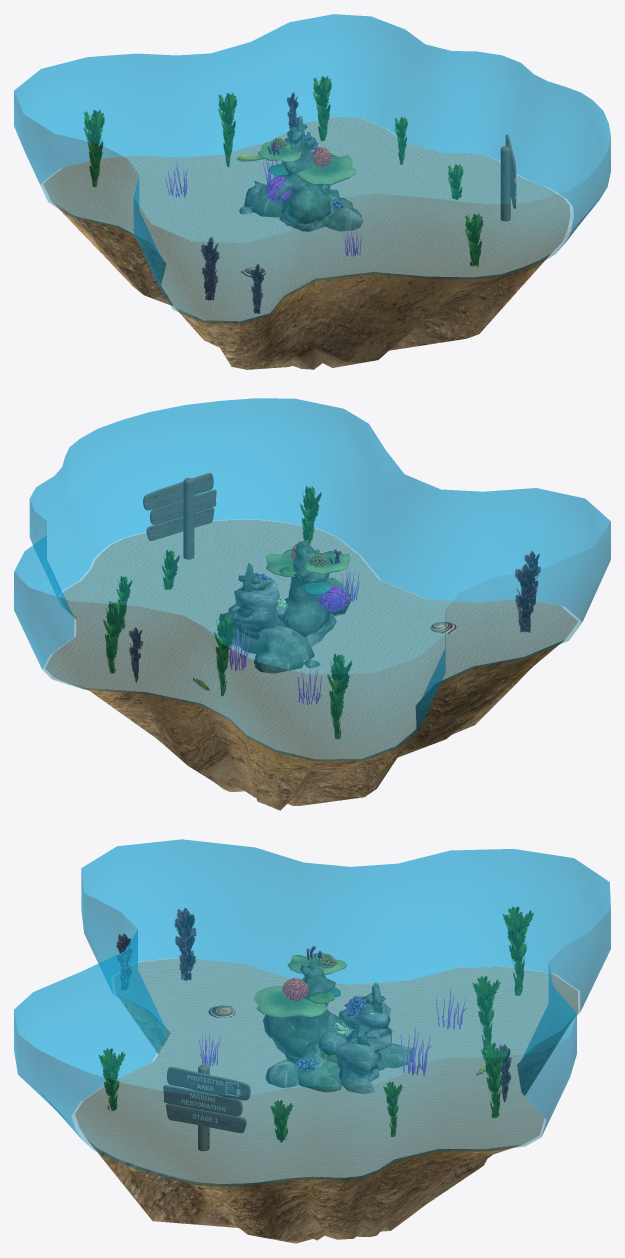
Rendered from mar-stg1.glb.
3 views of the same model, one above another, from view 1: azimuth 30°, elevation 25°; view 2: azimuth 150°, elevation 25°; view 3: azimuth 270°, elevation 25° (orthographic). The views are drawn at different scales.
Parts seen in each view (by area): view 1: ISOLOTTI_GRP_ISOLOTTI_004_GRP_isola_04_acqua_geo, ISOLOTTI_GRP_isola_04_terra_geo_ISOLOTTI_004_GRP, rock_geo, polySurface27.001, SeaWeed04_, SeaWeed04_.005, pole.002, SeaWeed04_.002, SeaWeed05_.001, SeaWeed04_.004; view 2: ISOLOTTI_GRP_ISOLOTTI_004_GRP_isola_04_acqua_geo, ISOLOTTI_GRP_isola_04_terra_geo_ISOLOTTI_004_GRP, rock_geo, SeaWeed04_, polySurface27.001, top_board.002, SeaWeed05_.001, pole.002, middle_board.002, SeaWeed04_.005, bottom_board.002, SeaWeed04_.002 (+2 smaller); view 3: ISOLOTTI_GRP_ISOLOTTI_004_GRP_isola_04_acqua_geo, ISOLOTTI_GRP_isola_04_terra_geo_ISOLOTTI_004_GRP, rock_geo, polySurface27.001, top_board.002, middle_board.002, SeaWeed04_, bottom_board.002, SeaWeed05_.001, SeaWeed04_.002, SeaWeed04_.005, SeaWeed04_.004 (+2 smaller).
Part boxes in pixels (x1,y1,x2,y2): ISOLOTTI_GRP_ISOLOTTI_004_GRP_isola_04_acqua_geo: [14, 14, 610, 323]; ISOLOTTI_GRP_isola_04_terra_geo_ISOLOTTI_004_GRP: [43, 117, 570, 369]; rock_geo: [239, 116, 362, 231]; polySurface27.001: [258, 141, 355, 185]; SeaWeed04_: [84, 110, 104, 186]; SeaWeed04_.005: [218, 93, 236, 166]; pole.002: [500, 146, 510, 221]; SeaWeed04_.002: [313, 76, 331, 141]; SeaWeed05_.001: [201, 237, 219, 300]; SeaWeed04_.004: [465, 214, 482, 266]; ISOLOTTI_GRP_ISOLOTTI_004_GRP_isola_04_acqua_geo: [14, 398, 610, 761]; ISOLOTTI_GRP_isola_04_terra_geo_ISOLOTTI_004_GRP: [45, 519, 578, 810]; rock_geo: [218, 539, 351, 673]; SeaWeed04_: [327, 654, 351, 739]; polySurface27.001: [266, 549, 350, 576]; top_board.002: [143, 473, 213, 510]; SeaWeed05_.001: [515, 564, 537, 632]; pole.002: [183, 478, 194, 559]; middle_board.002: [150, 489, 216, 524]; SeaWeed04_.005: [214, 613, 235, 696]; bottom_board.002: [146, 507, 214, 540]; SeaWeed04_.002: [103, 601, 125, 673]; ISOLOTTI_GRP_ISOLOTTI_004_GRP_isola_04_acqua_geo: [14, 839, 610, 1186]; ISOLOTTI_GRP_isola_04_terra_geo_ISOLOTTI_004_GRP: [75, 958, 578, 1243]; rock_geo: [263, 961, 415, 1094]; polySurface27.001: [254, 953, 346, 1018]; top_board.002: [167, 1067, 250, 1100]; middle_board.002: [163, 1085, 242, 1116]; SeaWeed04_: [502, 906, 533, 995]; bottom_board.002: [166, 1103, 246, 1133]; SeaWeed05_.001: [174, 908, 196, 980]; SeaWeed04_.002: [481, 1043, 508, 1118]; SeaWeed04_.005: [472, 976, 500, 1050]; SeaWeed04_.004: [98, 1048, 125, 1110].
Size of the model in its own units: 1.62 by 0.7891 by 1.59.
Materials: 21 (19 with a texture image).
